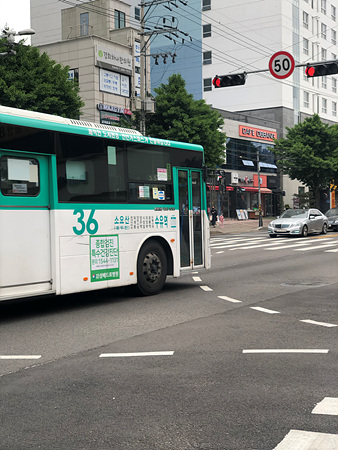entrance: (171, 163, 210, 276)
